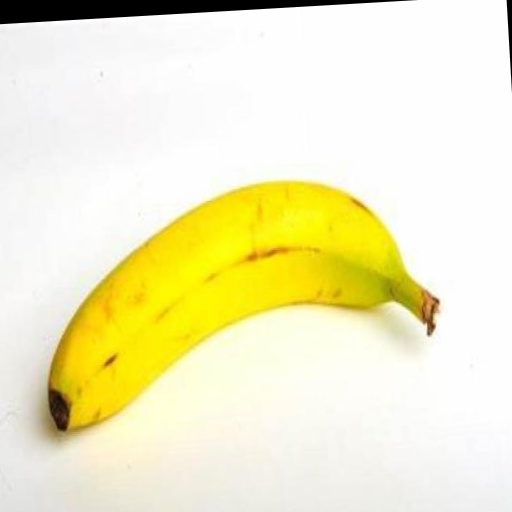fruit: (49, 182, 438, 430)
